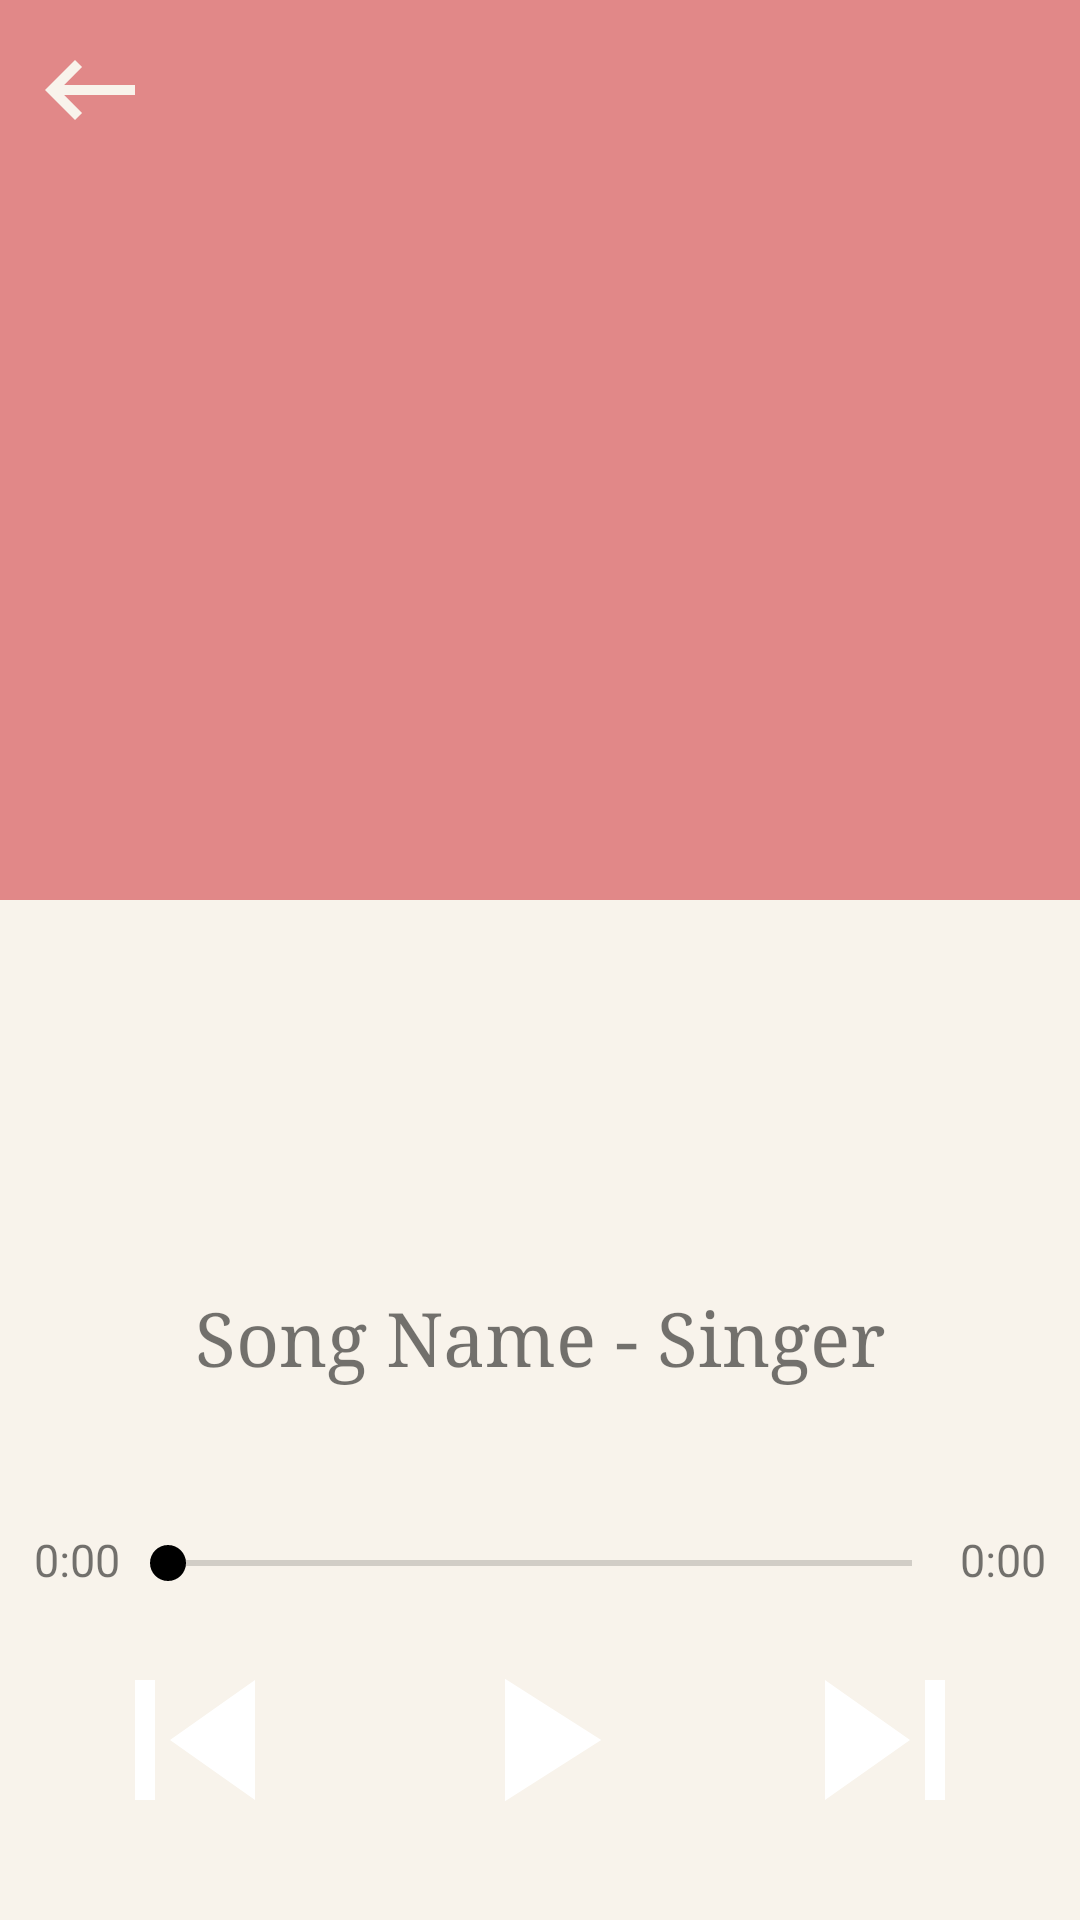

Where icons sit on this 1080 × 1920 app screen, as (x1, y1, x2, y2):
backpress: (45, 60, 135, 120)
